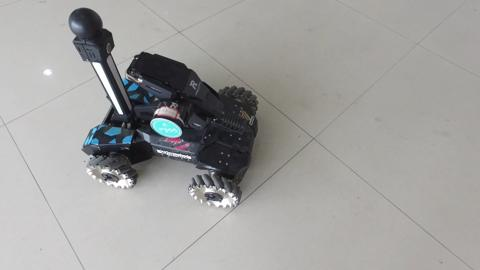chariot: (45, 17, 262, 220)
